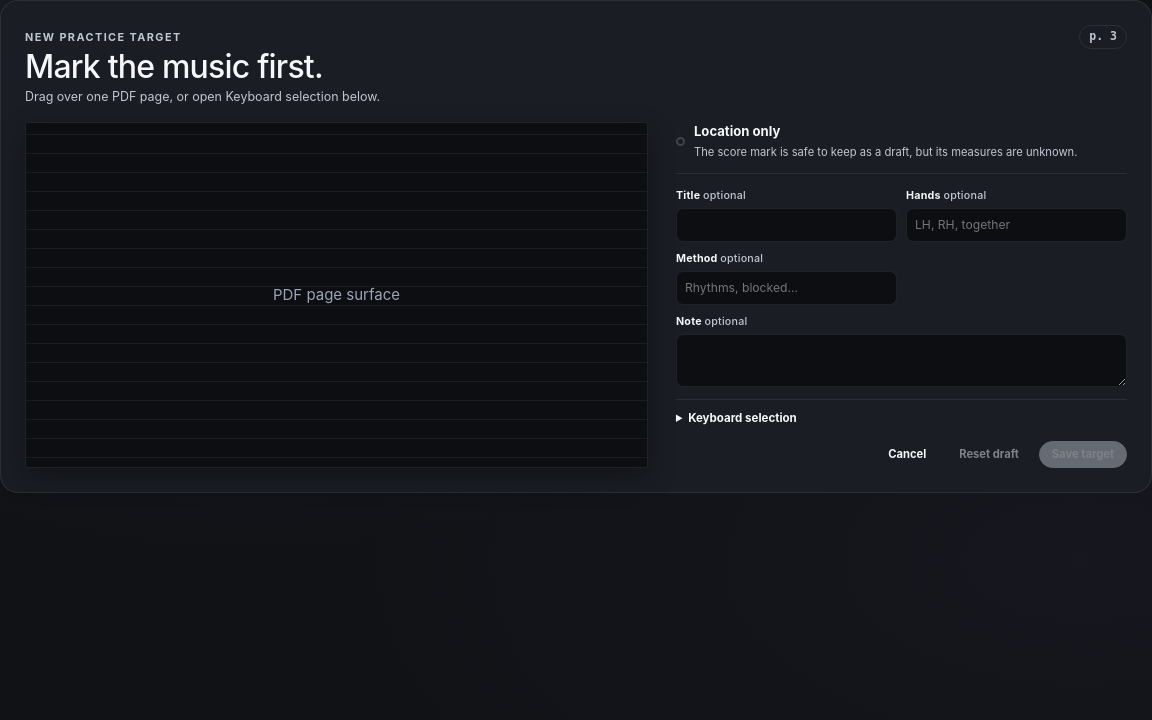
Test: TargetDraftEditor › supports reset and cancel without leaking a stale selection
Press the mouse on the element with test id "atlas-target-overlay-3" at {"x": 336, "y": 295}, box [26, 123, 647, 467]
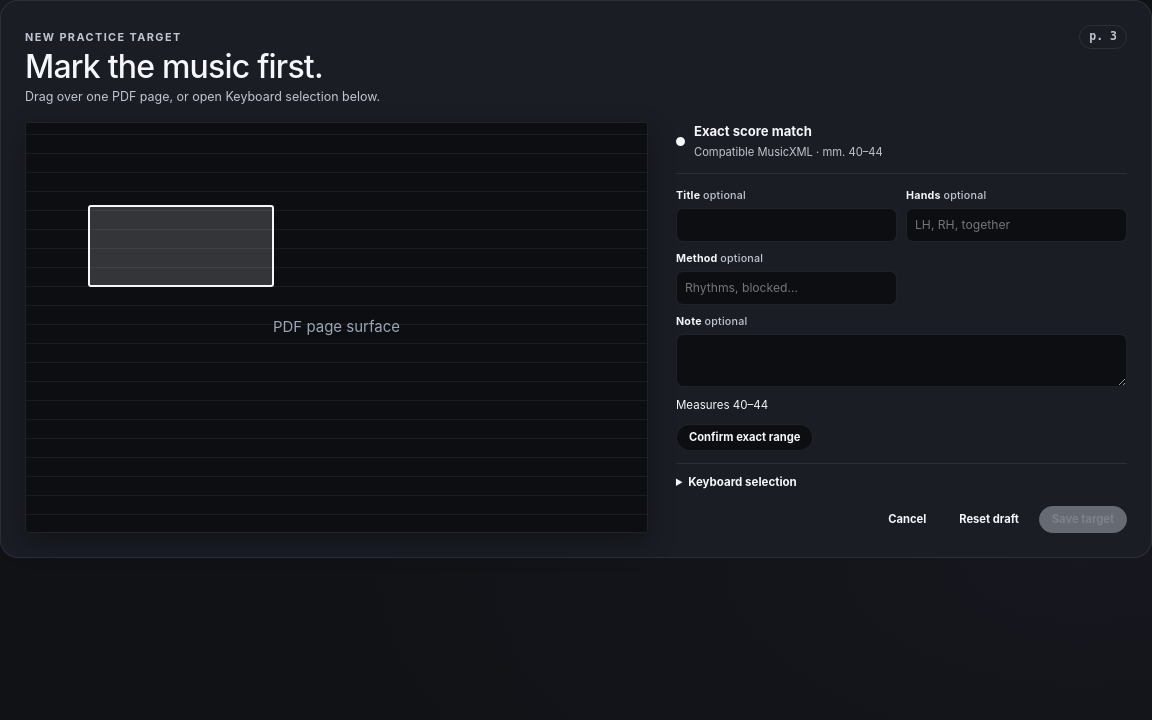
Click the button "Reset draft" at {"x": 989, "y": 519}, box [946, 506, 1032, 533]
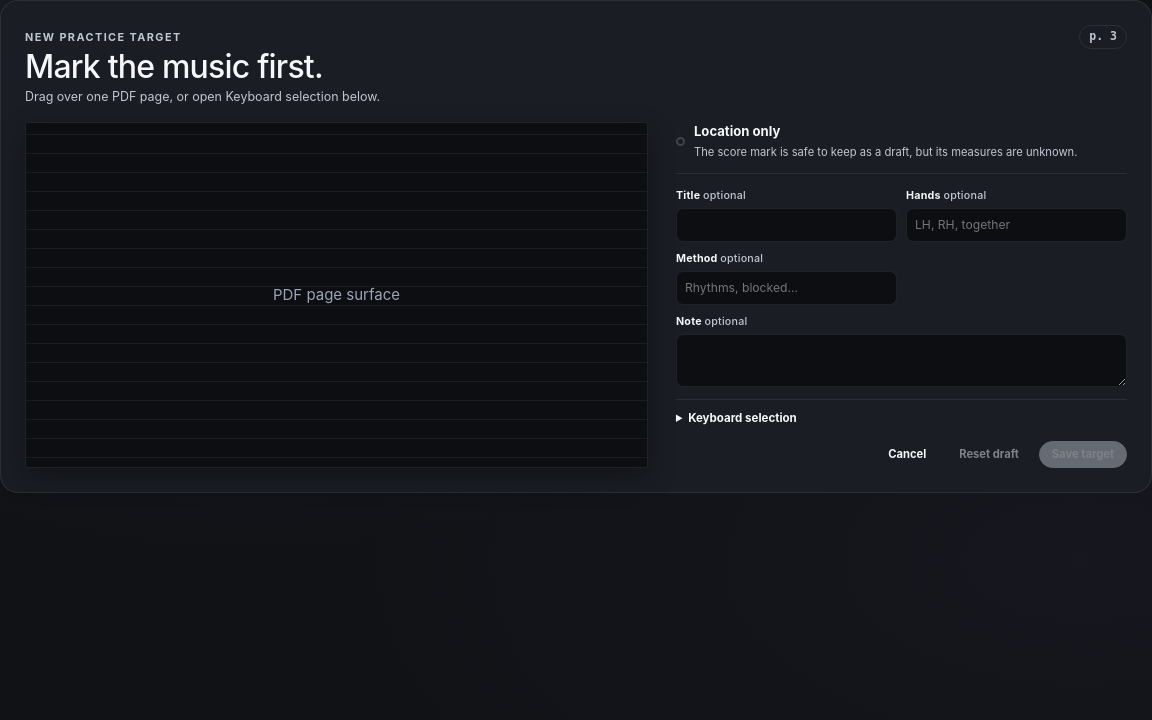
Result: the element with test id "atlas-target-selection" is gone
Result: the message shows "Location only" at [694, 123, 780, 139]
Press the mouse on the element with test id "atlas-target-overlay-3" at {"x": 336, "y": 295}, box [26, 123, 647, 467]
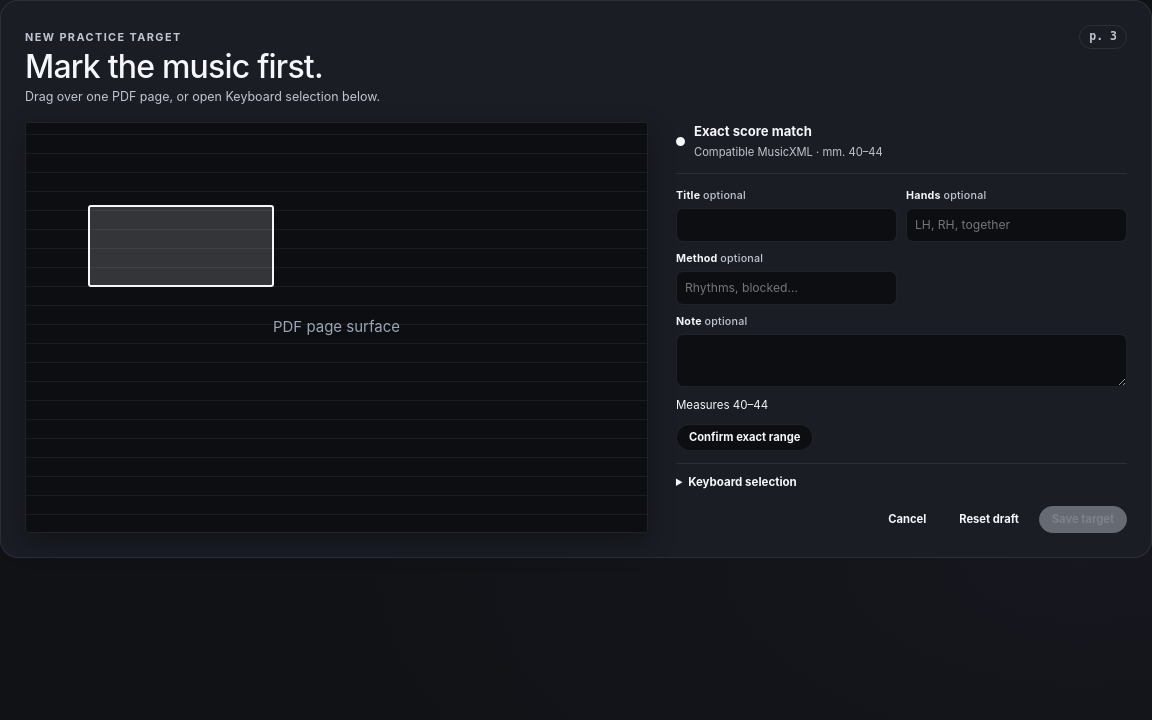
Click the button "Cancel" at {"x": 907, "y": 519}, box [875, 506, 939, 533]
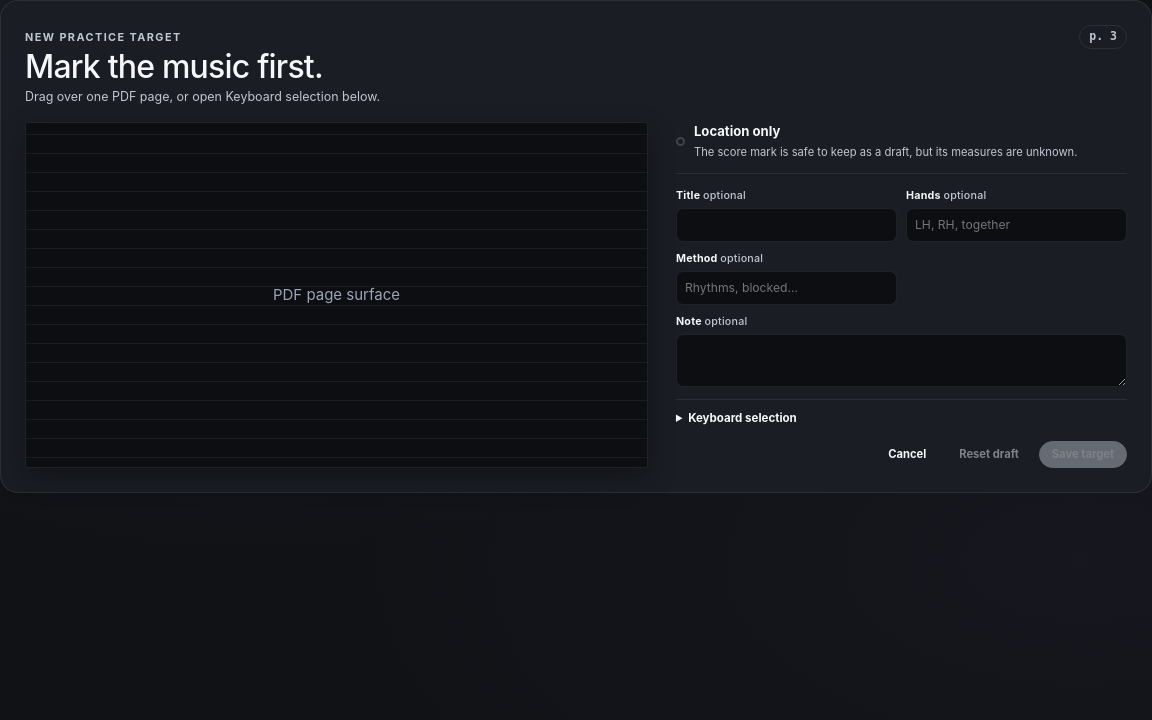
Result: the element with test id "atlas-target-selection" is gone
